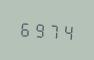four: (60, 20, 73, 41)
nine: (32, 19, 45, 39)
seven: (46, 20, 59, 40)
six: (18, 18, 31, 38)
